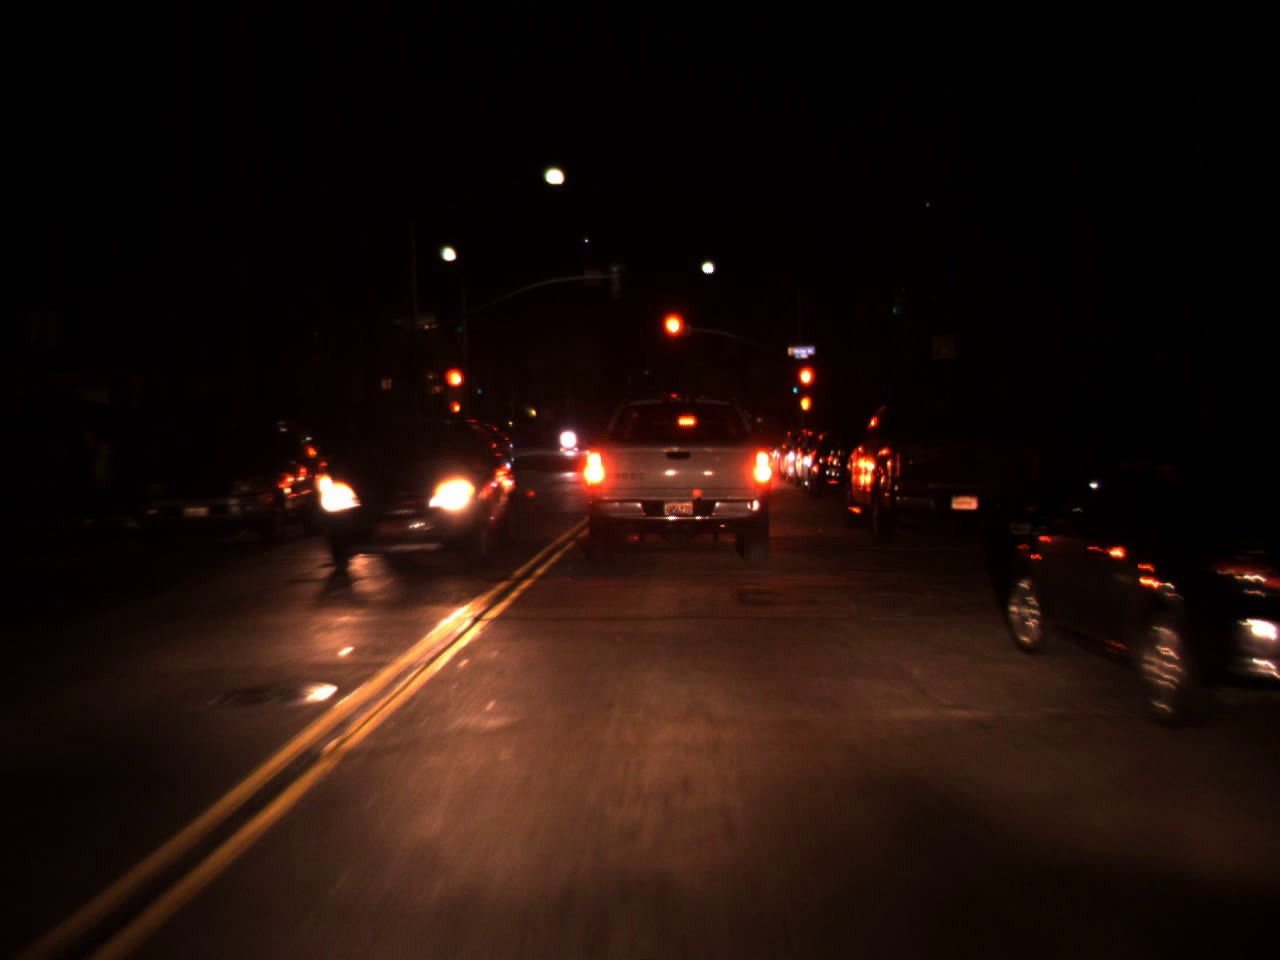stop: (660, 308, 687, 367), (441, 366, 468, 409), (796, 363, 817, 411)
